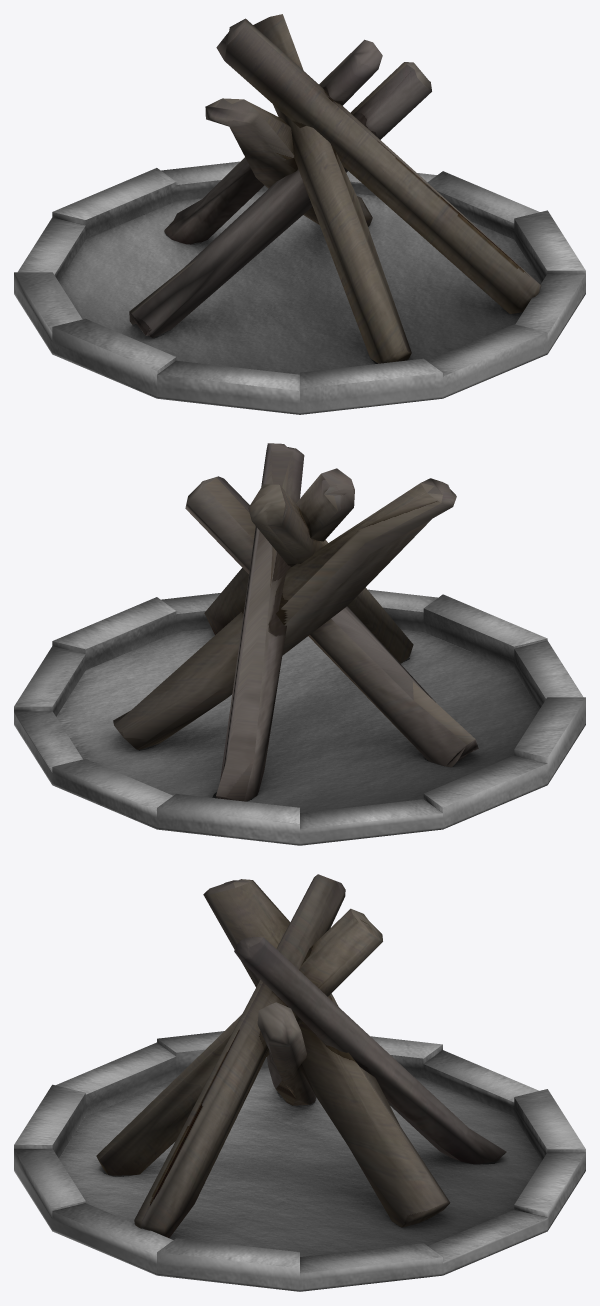
The model's file is Campfire.fbx.
3 renders of one model, top to bottom at view 1: azimuth 30°, elevation 25°; view 2: azimuth 150°, elevation 25°; view 3: azimuth 270°, elevation 25°, orthographic.
Visible parts, largest first — view 1: Cylinder_003, Cylinder_002; view 2: Cylinder_003, Cylinder_002; view 3: Cylinder_003, Cylinder_002.
Part boxes in pixels (x1,y1,x2,y2): Cylinder_003: [14, 161, 585, 414]; Cylinder_002: [129, 14, 541, 363]; Cylinder_003: [14, 589, 585, 845]; Cylinder_002: [113, 443, 478, 801]; Cylinder_003: [14, 1031, 585, 1291]; Cylinder_002: [96, 874, 506, 1237].
Bounding box in the file's own units: 4.26 × 2.36 × 4.26.
